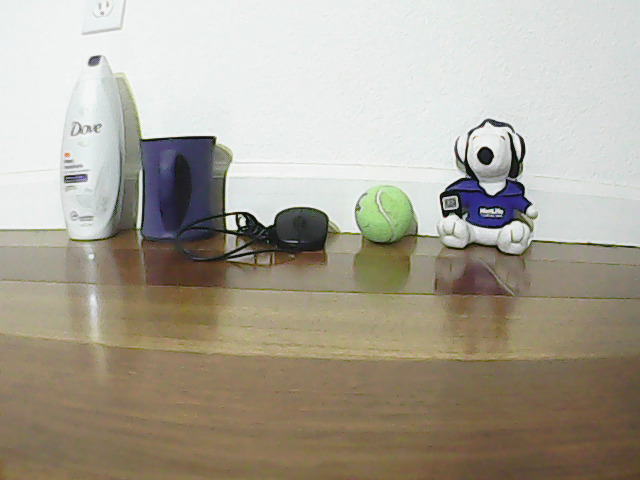ball: (354, 172, 413, 250)
mouse: (275, 198, 340, 259)
mug: (144, 125, 232, 242)
snoopy: (461, 116, 547, 265)
soap: (62, 39, 126, 248)
